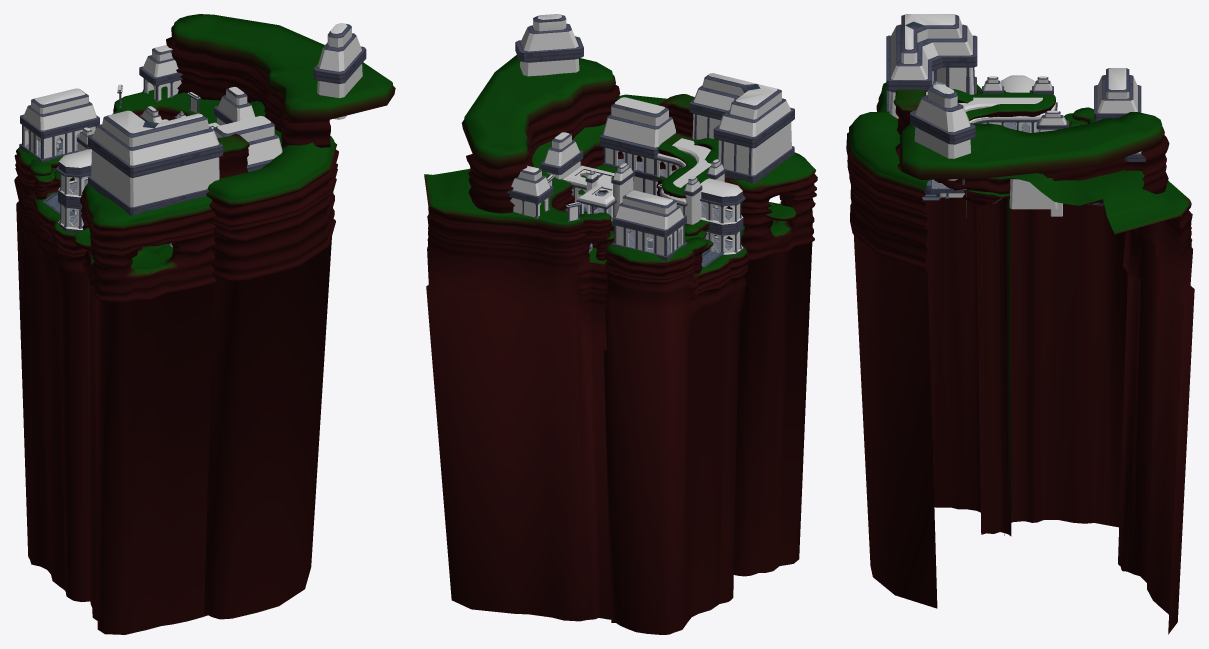
File: Sunken Tomb Terrain.fbx
3 renders of one model, left to right at view 1: azimuth 30°, elevation 25°; view 2: azimuth 150°, elevation 25°; view 3: azimuth 270°, elevation 25°, orthographic. The views are drawn at different scales.
Parts seen in each view (by area): view 1: Terrain, Structures, Terrain Extra Cliff Temple; view 2: Terrain, Structures, Terrain Extra Cliff, Terrain Extra Cliff Temple; view 3: Terrain, Structures.
Part boxes in pixels (bbox=[...]): Terrain: bbox=[14, 14, 395, 634]; Structures: bbox=[19, 23, 366, 246]; Terrain Extra Cliff Temple: bbox=[29, 159, 74, 199]; Terrain: bbox=[424, 55, 817, 634]; Structures: bbox=[506, 14, 794, 267]; Terrain Extra Cliff: bbox=[580, 212, 613, 260]; Terrain Extra Cliff Temple: bbox=[684, 220, 713, 273]; Terrain: bbox=[846, 82, 1194, 634]; Structures: bbox=[886, 14, 1145, 217].
Size of the model in its own units: 26524 by 43811 by 25089.
